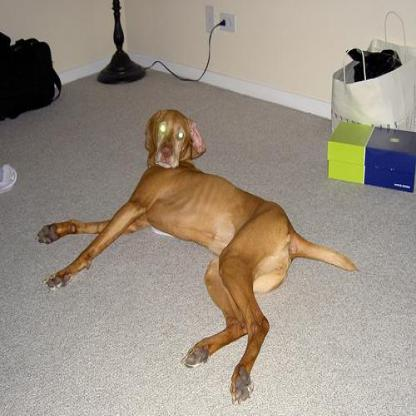vizsla: (34, 104, 360, 403)
